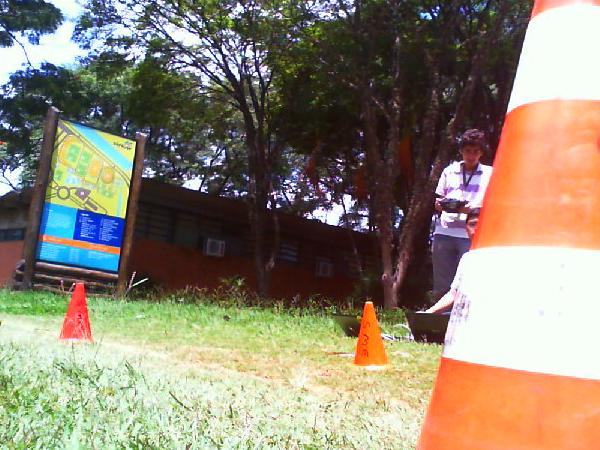0 cone: (416, 0, 600, 450), (353, 301, 390, 371), (58, 282, 95, 344)
